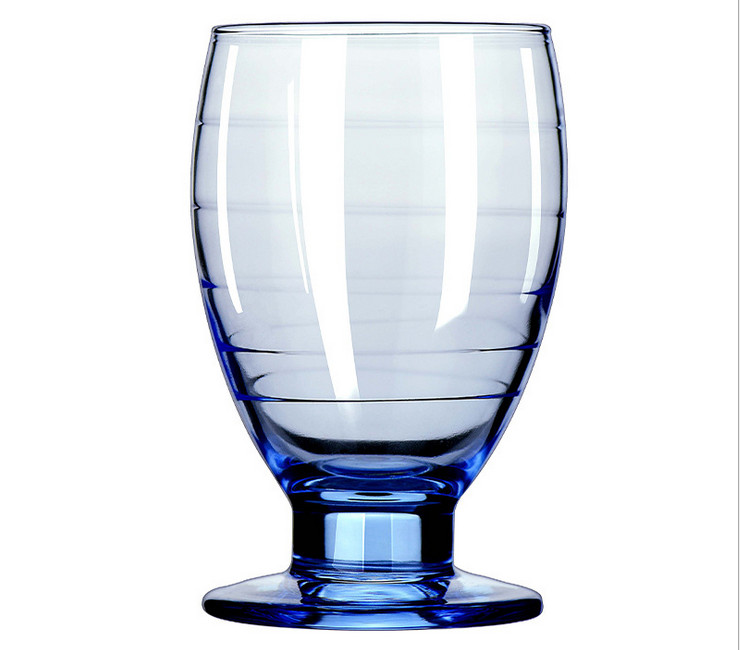glass of water: (256, 113, 512, 598)
